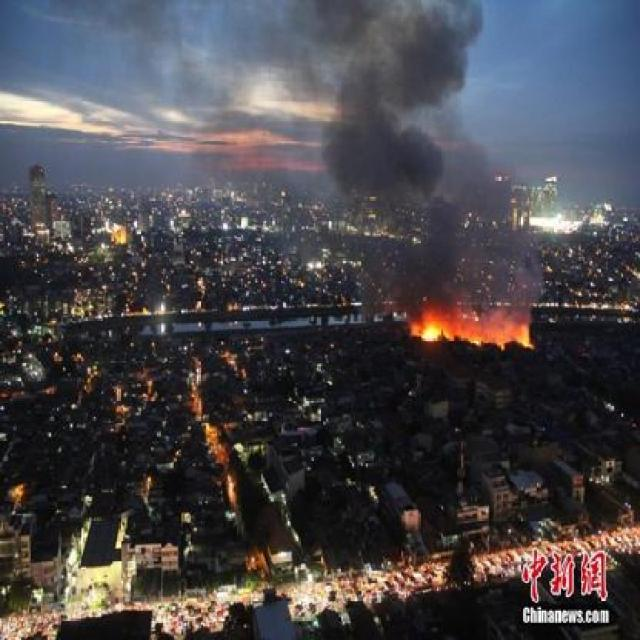Fire: (418, 302, 534, 350)
Smoke: (336, 10, 540, 301)
